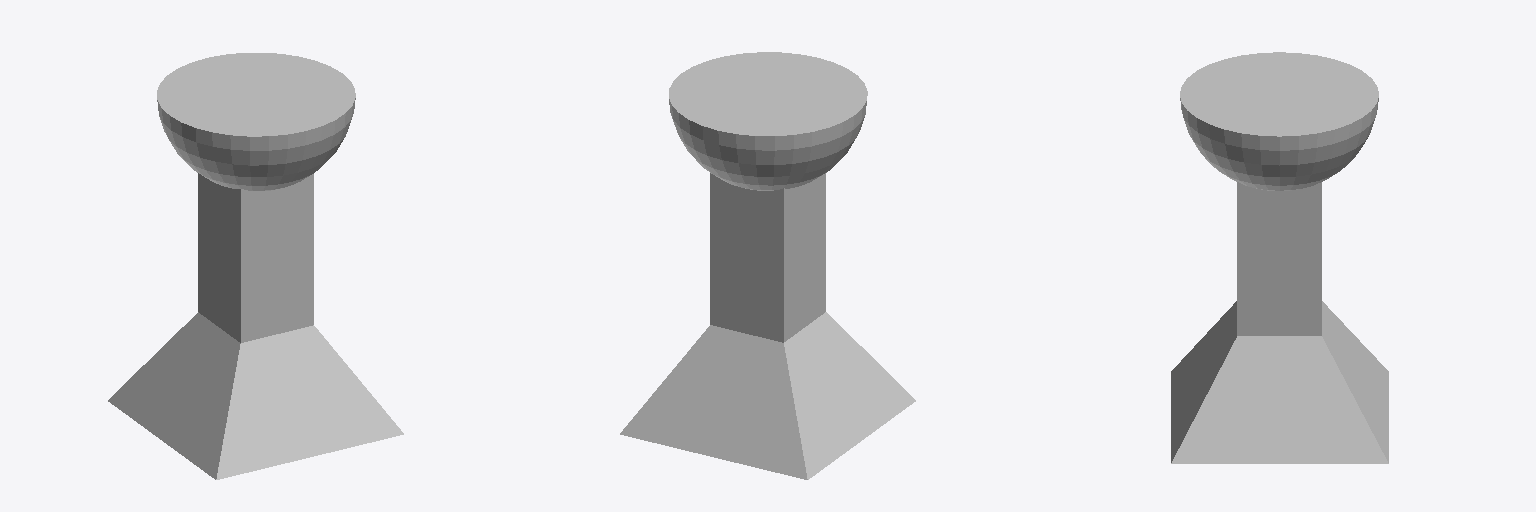
File: podest.obj
3 renders of one model, left to right at view 1: azimuth 30°, elevation 25°; view 2: azimuth 150°, elevation 25°; view 3: azimuth 270°, elevation 25°, orthographic.
Visible parts, largest first — view 1: Podest; view 2: Podest; view 3: Podest.
Boxes of the visible parts, x1,y1,x2,y2 form: Podest: [108, 53, 403, 479]; Podest: [620, 52, 915, 479]; Podest: [1171, 52, 1388, 463].
Size of the model in its own units: 0.5819 by 0.9533 by 0.5819.